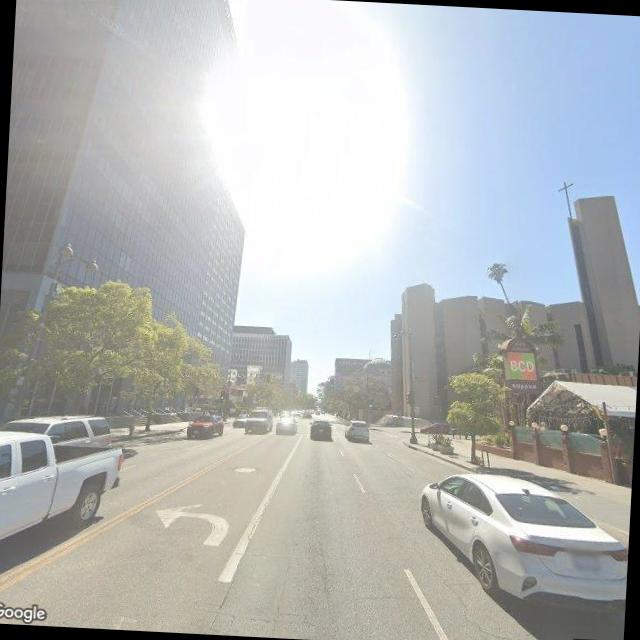pothole: (400, 527, 538, 640)
